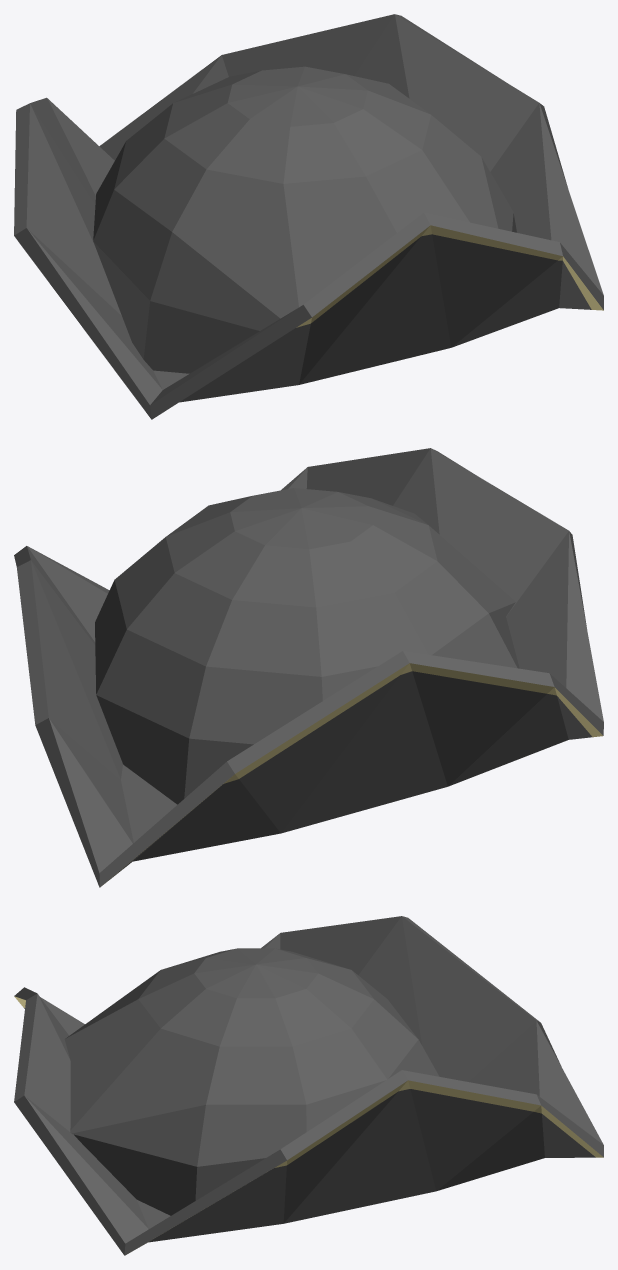
The model's file is cockedHat.fbx.
The picture shows the model from 3 angles, top to bottom: view 1: azimuth 30°, elevation 25°; view 2: azimuth 150°, elevation 25°; view 3: azimuth 270°, elevation 25°; orthographic projection. The views are drawn at different scales.
Parts seen in each view (by area): view 1: CockedHat; view 2: CockedHat; view 3: CockedHat.
Boxes of the visible parts, x1=… form: CockedHat: x1=14, y1=14, x2=603, y2=419; CockedHat: x1=14, y1=448, x2=603, y2=887; CockedHat: x1=14, y1=916, x2=603, y2=1255.
Size of the model in its own units: 178 by 72.19 by 199.
